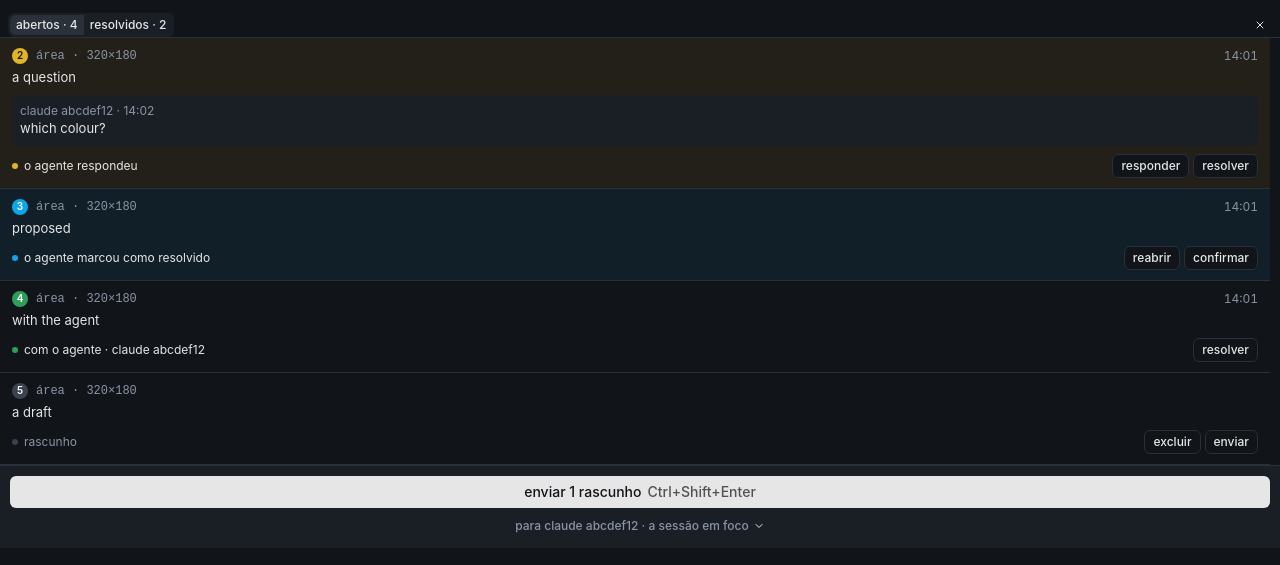
Test case: the footer sends every draft of the file with kind, path and the recipient; its line names a new session, the session in focus, or the pick (#113)
This screenshot has width=1280, height=565.
Expected: the text "para claude abcdef12 · a sessão em foco" is shown, [515,518,749,534]
Click the button "enviar 1 rascunho Ctrl+Shift+Enter" at (640, 492), box [10,476,1270,508]
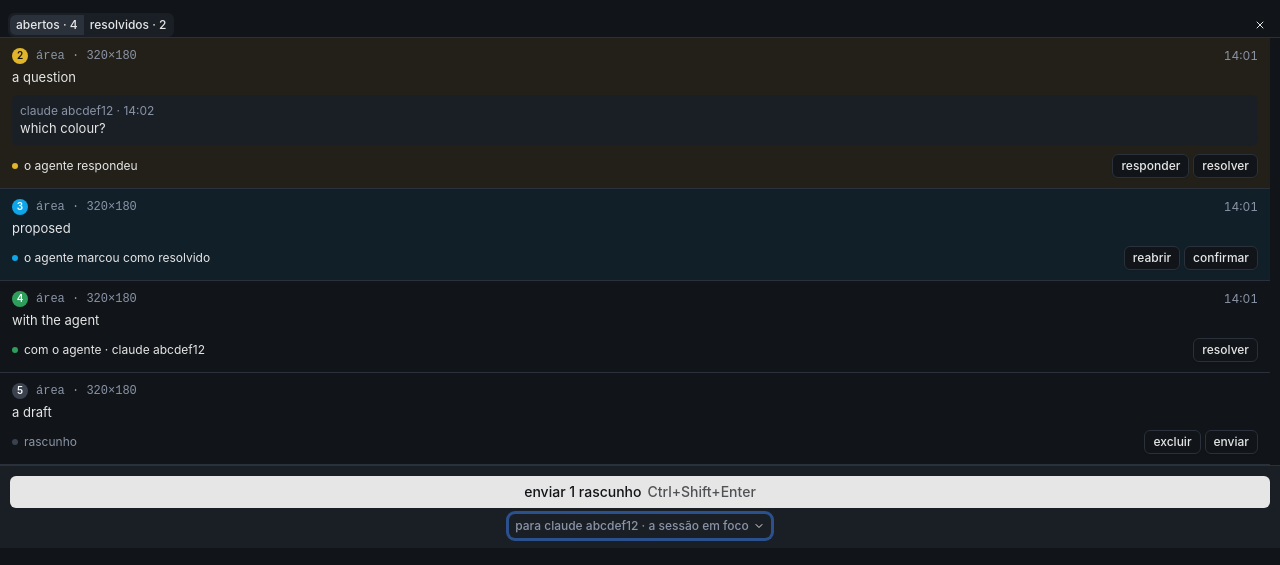
Press Enter
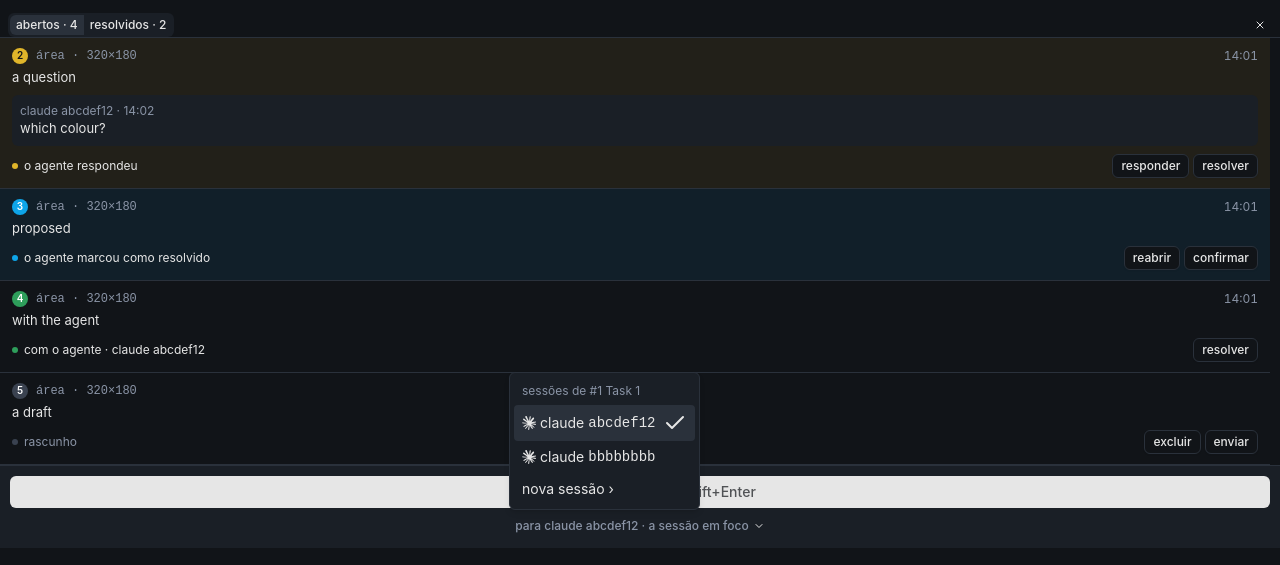
Click the menu item "claude bbbbbbbb" at (589, 456), box [522,448,656,465]
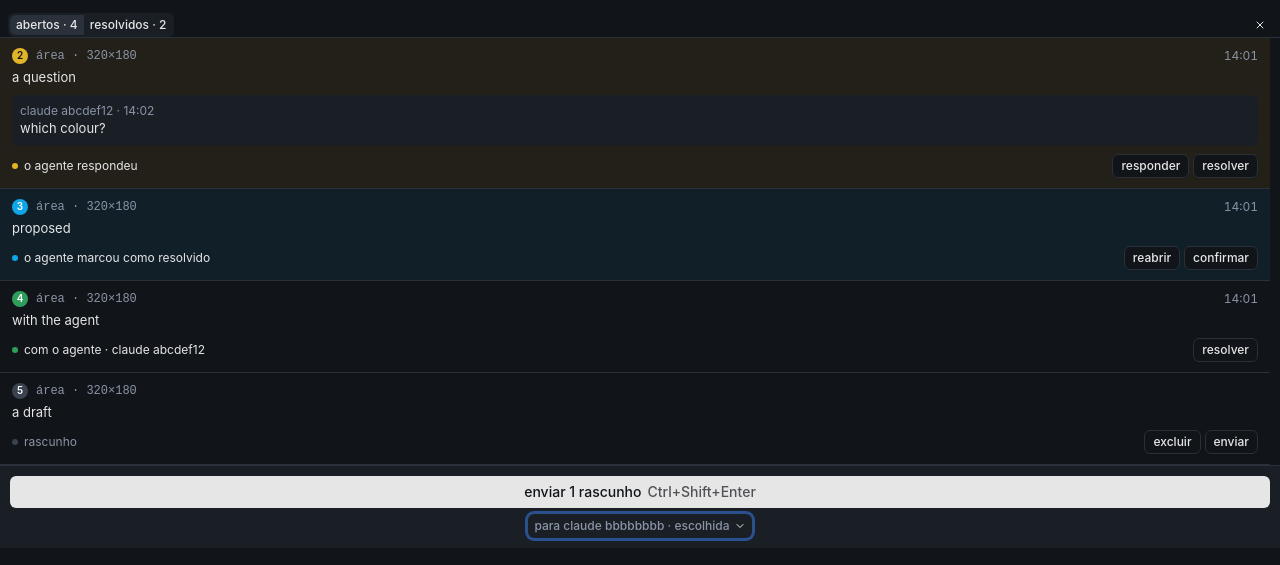
Expected: the text "para claude bbbbbbbb · escolhida" is shown, [534,518,730,534]
Click the radio button labelled "resolvidos · 2" at (128, 24), box [84,14,172,34]
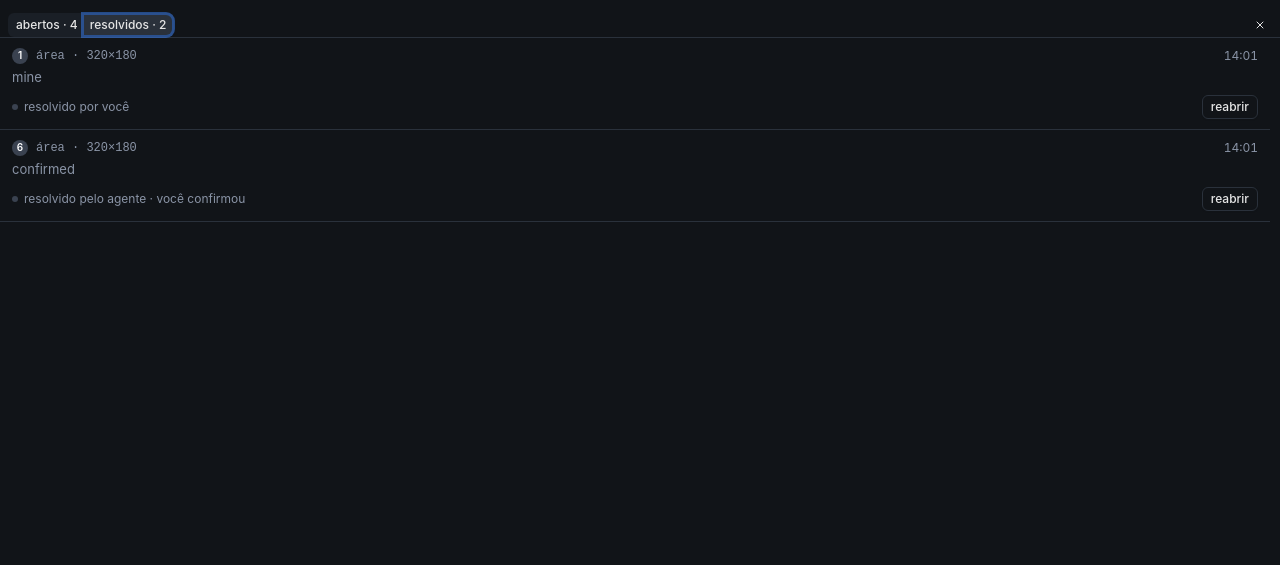
Expected: the button "enviar 1 rascunho" is gone
